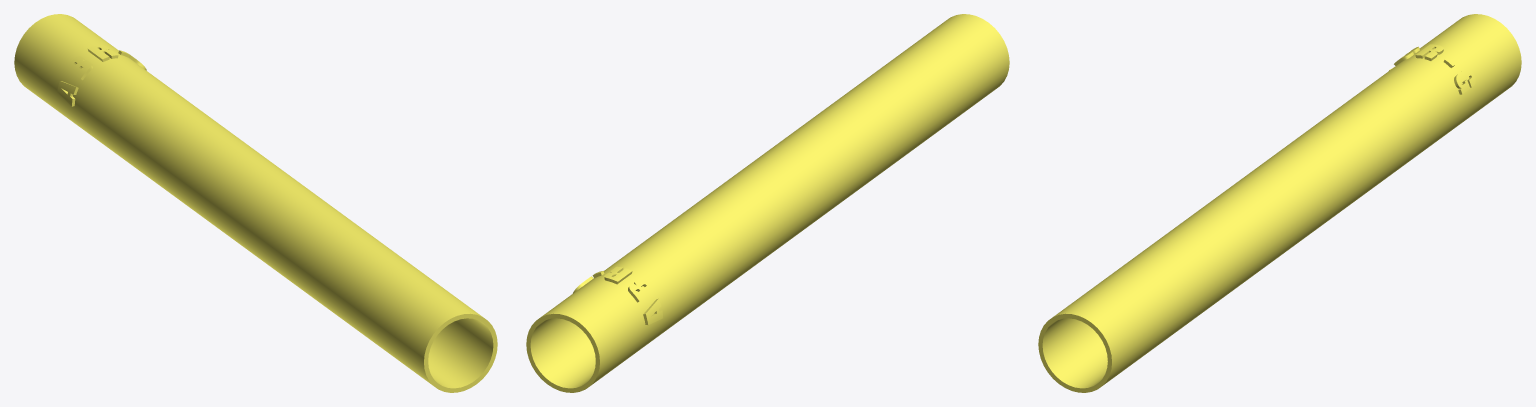
Rendered from tubo_para_bobinas_entrada.glb.
3 renders of one model, left to right at view 1: azimuth 30°, elevation 25°; view 2: azimuth 150°, elevation 25°; view 3: azimuth 330°, elevation 25°, orthographic.
Parts seen in each view (by area): view 1: Tubo para Bobinas Entrada.SLDPRT; view 2: Tubo para Bobinas Entrada.SLDPRT; view 3: Tubo para Bobinas Entrada.SLDPRT.
Part boxes in pixels (bbox=[...]): Tubo para Bobinas Entrada.SLDPRT: bbox=[14, 14, 497, 392]; Tubo para Bobinas Entrada.SLDPRT: bbox=[526, 14, 1009, 392]; Tubo para Bobinas Entrada.SLDPRT: bbox=[1038, 14, 1521, 392].
Size of the model in its own units: 0.0273 by 0.0269 by 0.25.
